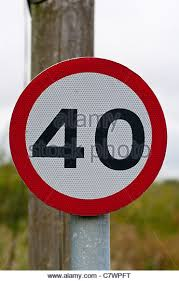Speed_limit_40km: (10, 56, 167, 218)
